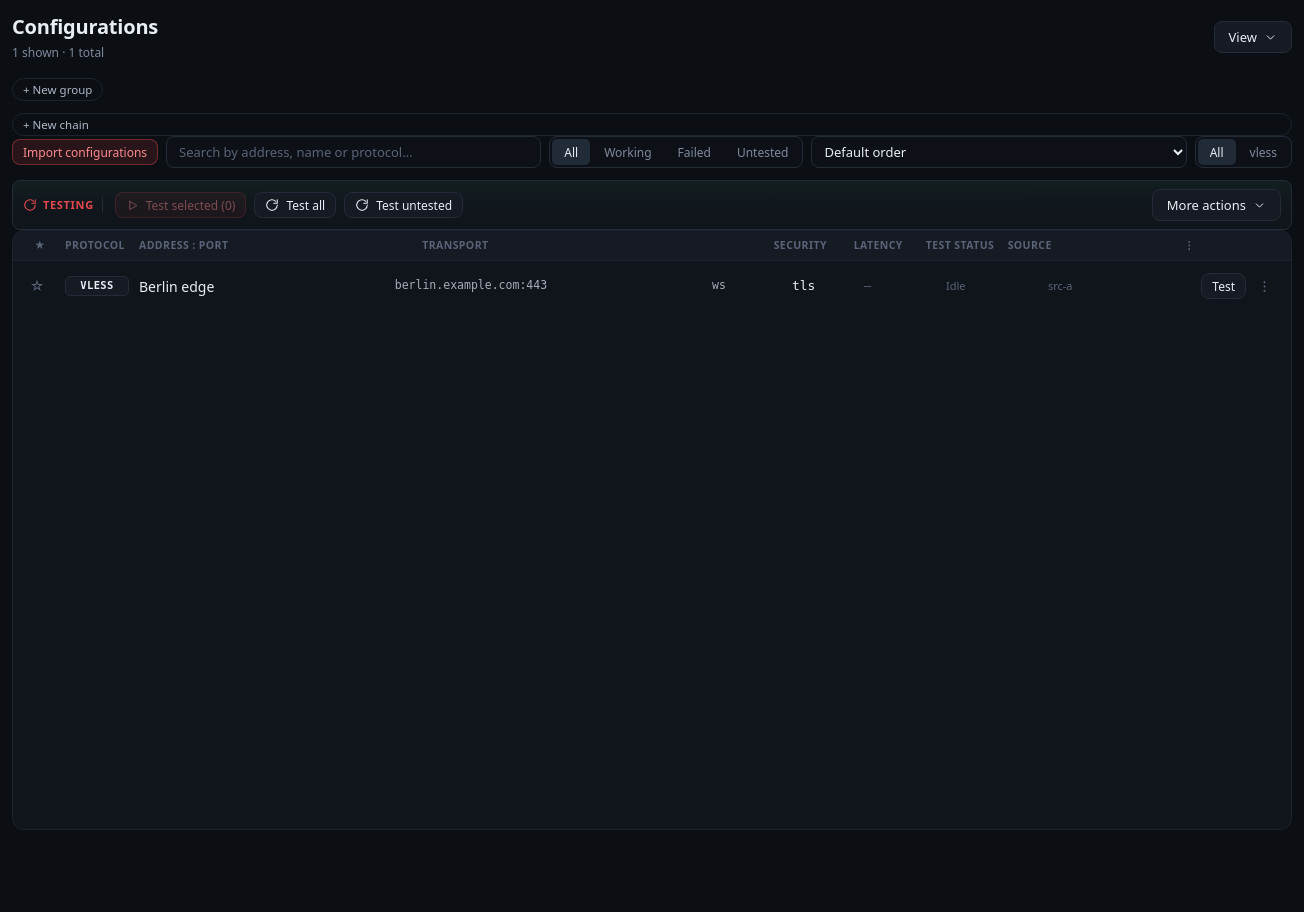
Right-click policy (v0.12.1 §25) › opens FreeIran's MenuSurface from a row right-click
Right-click the list item at (97, 286), box left=25, top=273, right=1279, bottom=299
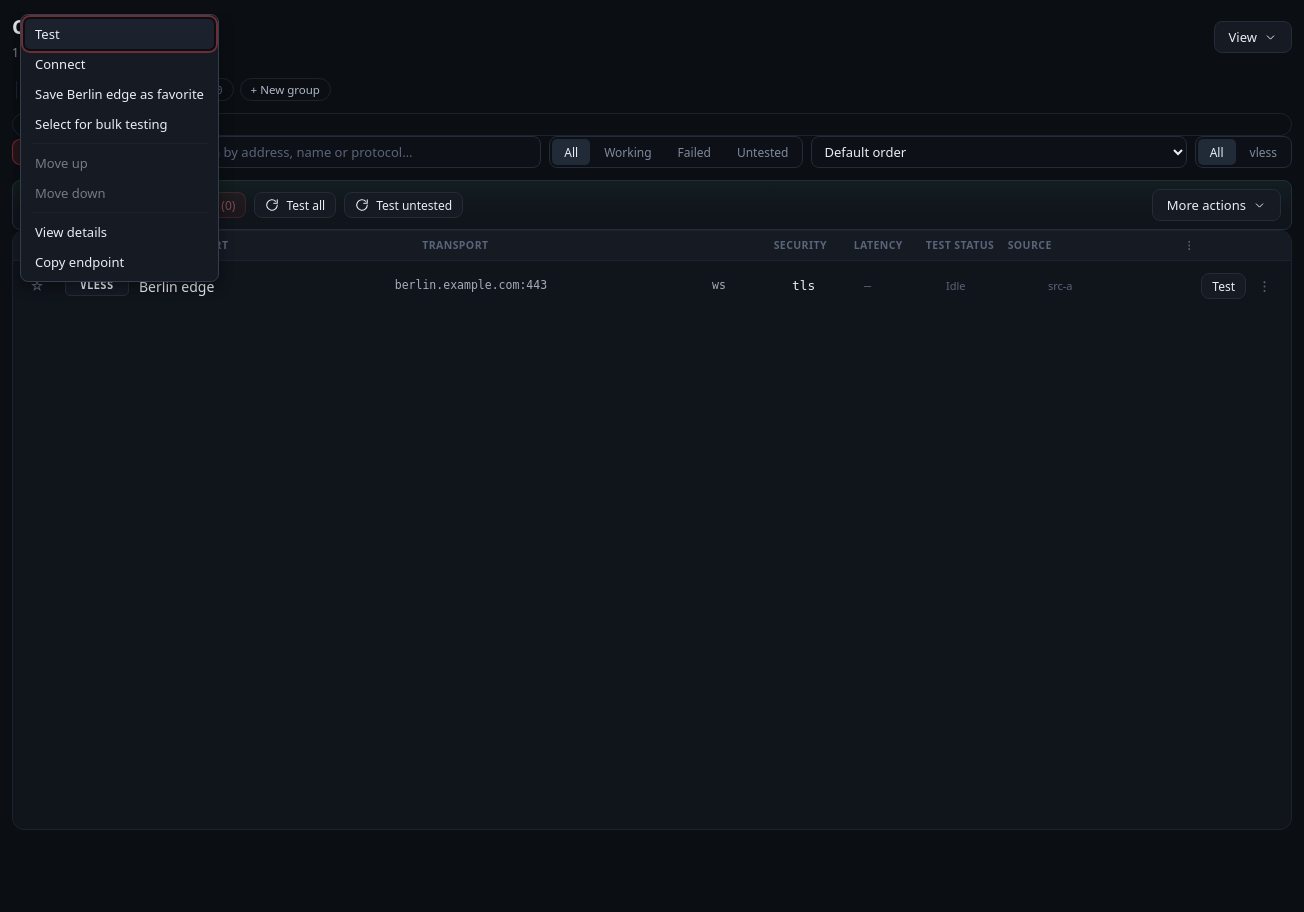
Check: the menu named "Configuration actions" is shown, box left=20, top=14, right=219, bottom=282
